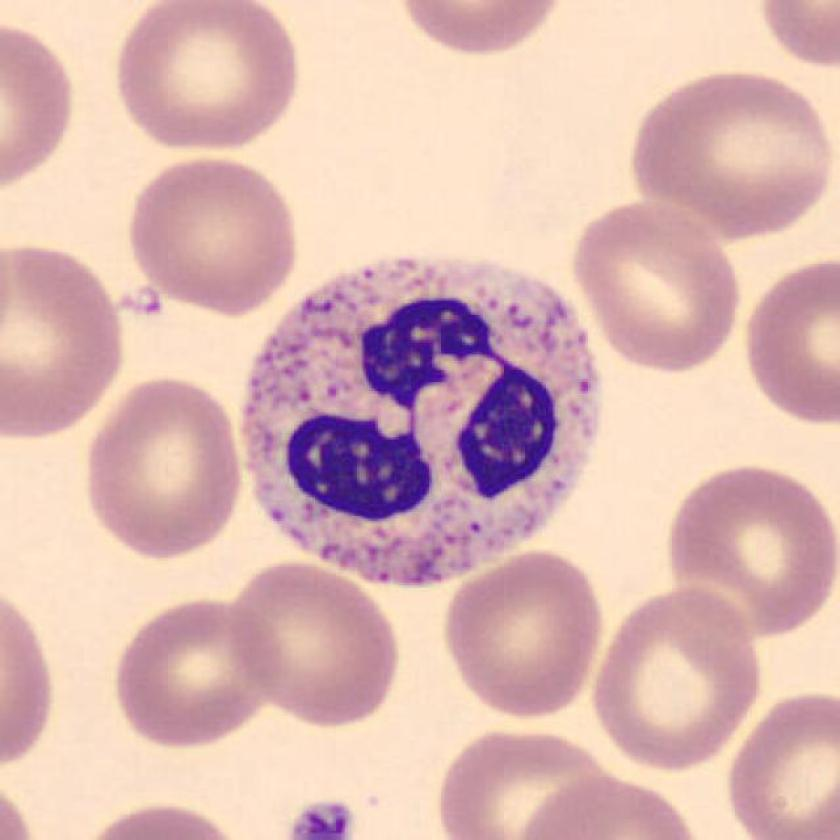neutrophil: (243, 263, 598, 583)
